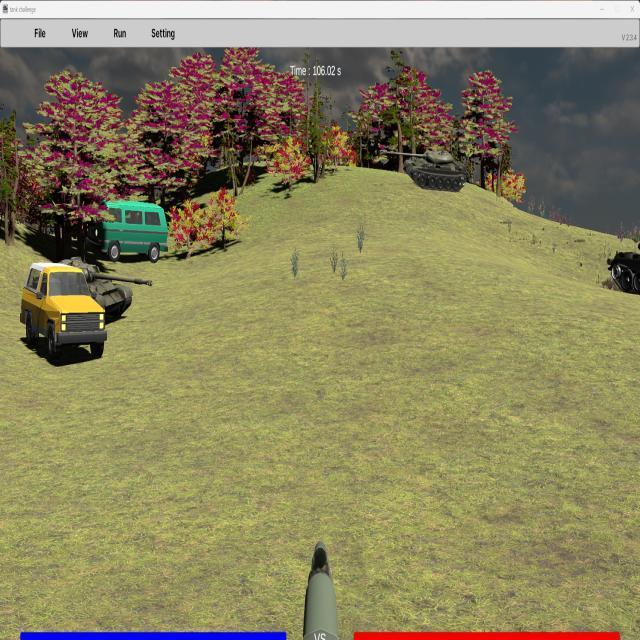Tank: (22, 258, 152, 324), (380, 150, 467, 192), (607, 234, 640, 301)
car: (20, 264, 106, 359), (81, 200, 168, 264)
